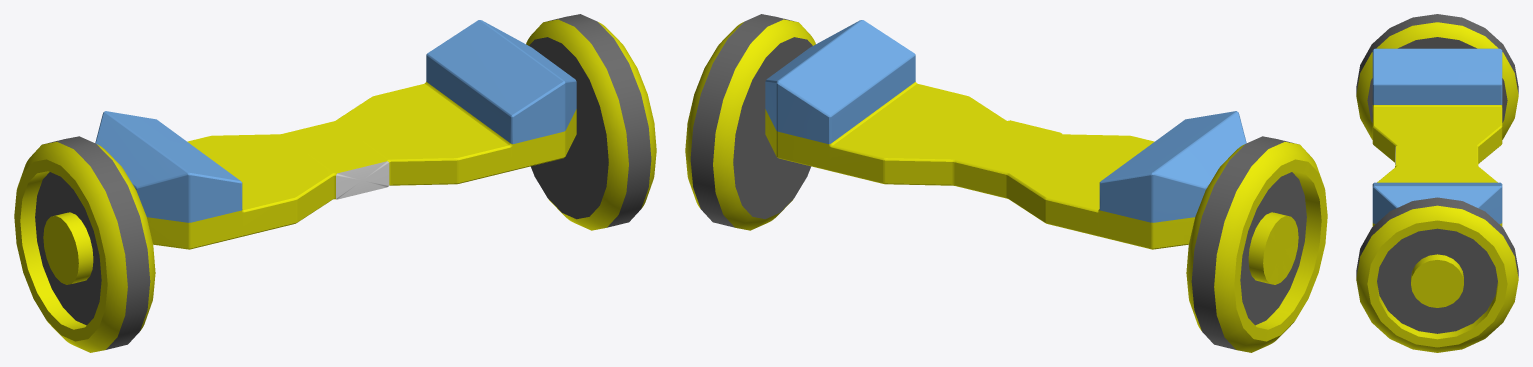
Rendered from Hoverboard.fbx.
The picture shows the model from 3 angles, left to right: view 1: azimuth 30°, elevation 25°; view 2: azimuth 150°, elevation 25°; view 3: azimuth 270°, elevation 25°; orthographic projection. The views are drawn at different scales.
Visible parts, largest first — view 1: Hoverboard; view 2: Hoverboard; view 3: Hoverboard.
Part boxes in pixels (x1,y1,x2,y2): Hoverboard: [14, 14, 656, 352]; Hoverboard: [685, 14, 1327, 352]; Hoverboard: [1356, 14, 1518, 352].
Size of the model in its own units: 87.62 by 29.94 by 29.94.
